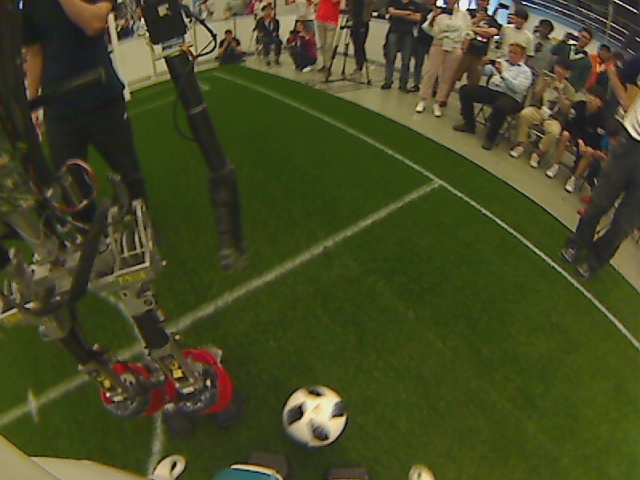ball: (280, 384, 347, 449)
